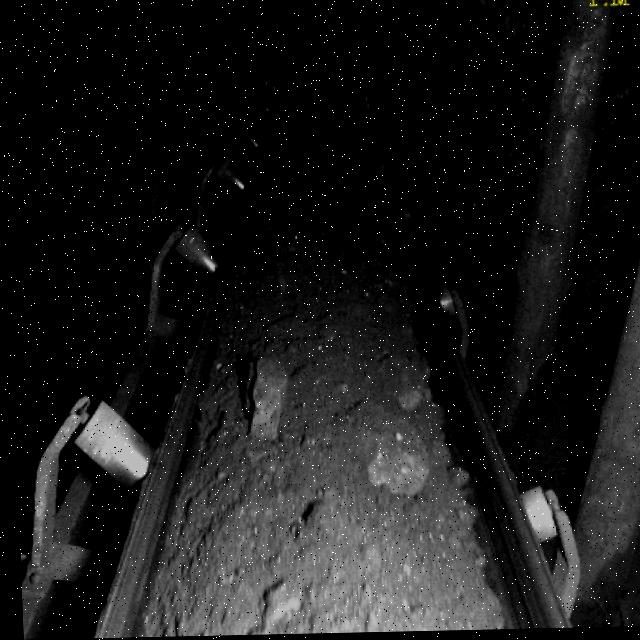large_sized_coal: (333, 403, 427, 499), (233, 354, 290, 443), (350, 354, 428, 410)
